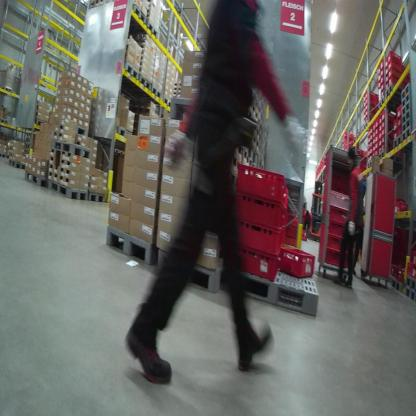forklift: (307, 174, 327, 242)
pallet: (224, 259, 321, 325), (149, 239, 233, 295), (95, 222, 156, 264), (51, 137, 92, 164), (47, 180, 89, 203), (58, 120, 91, 138), (124, 6, 149, 29), (23, 169, 48, 188), (376, 150, 402, 166), (145, 15, 161, 40), (385, 80, 402, 103), (392, 134, 412, 153), (122, 60, 138, 81), (88, 190, 109, 205), (115, 122, 133, 139), (138, 74, 153, 94), (398, 83, 411, 106), (379, 94, 396, 111), (403, 284, 416, 305), (391, 276, 405, 295), (7, 159, 27, 172), (402, 125, 413, 147), (150, 85, 162, 101), (400, 95, 411, 111), (401, 118, 412, 134), (3, 82, 16, 95), (401, 110, 412, 125), (162, 97, 174, 110), (405, 271, 414, 288), (401, 101, 411, 115), (34, 117, 48, 126), (367, 157, 374, 170), (1, 116, 9, 125), (1, 150, 6, 160), (6, 153, 10, 162)
small_load_carrier: (234, 185, 290, 239), (234, 163, 288, 209), (235, 212, 283, 263), (233, 243, 287, 281), (278, 243, 317, 284), (325, 245, 352, 270), (328, 189, 355, 213), (329, 204, 352, 225), (283, 233, 303, 255), (325, 232, 347, 251), (327, 218, 344, 242), (391, 259, 405, 282), (386, 50, 403, 68), (392, 201, 409, 219), (285, 208, 301, 227), (384, 60, 401, 77), (385, 69, 402, 86), (387, 76, 402, 94), (284, 221, 298, 238), (406, 259, 416, 279), (380, 111, 394, 123), (409, 244, 416, 266), (364, 90, 378, 101), (365, 105, 379, 116), (364, 97, 376, 108), (378, 73, 387, 87), (379, 83, 388, 96), (397, 112, 403, 126), (381, 60, 386, 74), (378, 67, 383, 81), (396, 127, 402, 136), (398, 107, 402, 118)
